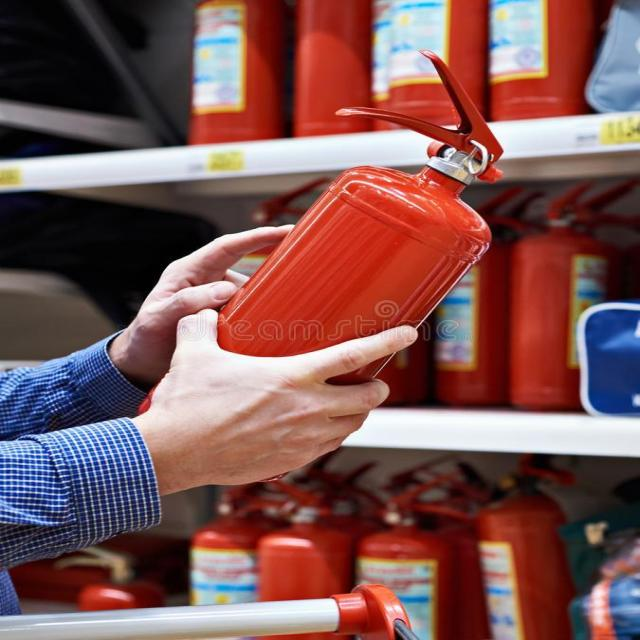fire_extinguisher: (120, 47, 517, 495), (500, 176, 628, 410), (347, 467, 478, 639), (246, 465, 370, 639), (469, 450, 583, 639), (361, 0, 498, 140), (179, 474, 291, 640), (177, 0, 297, 152), (433, 185, 513, 409), (478, 0, 604, 129), (285, 0, 384, 146)
